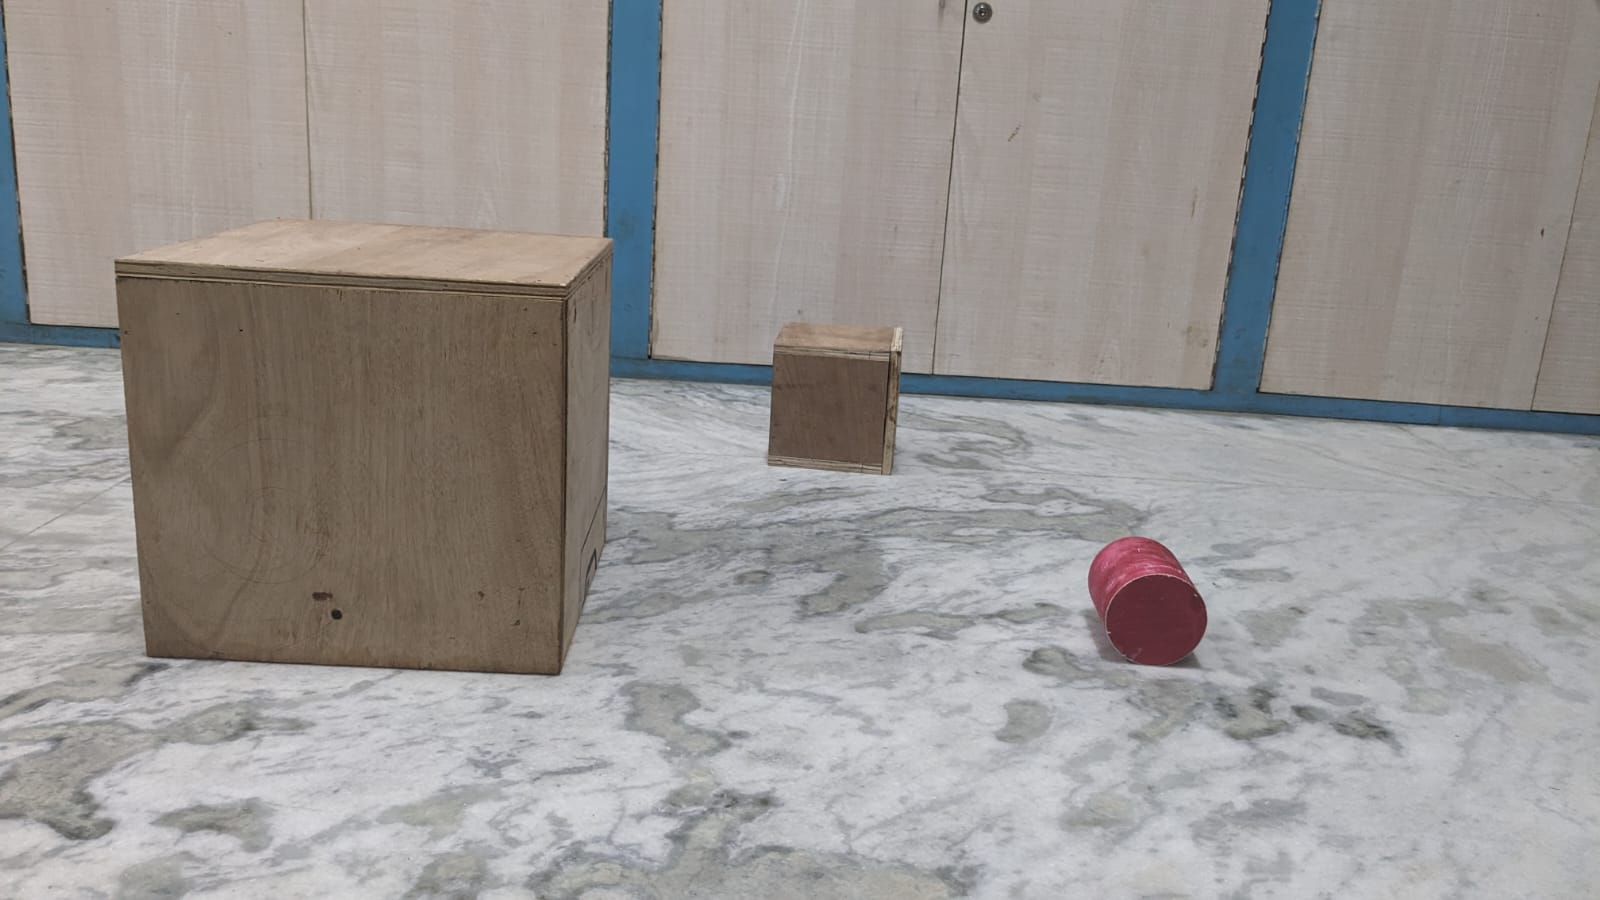150mm obstacle: (743, 305, 934, 495)
300mm obstacle: (92, 208, 635, 691)
testtube: (1078, 519, 1227, 681)
